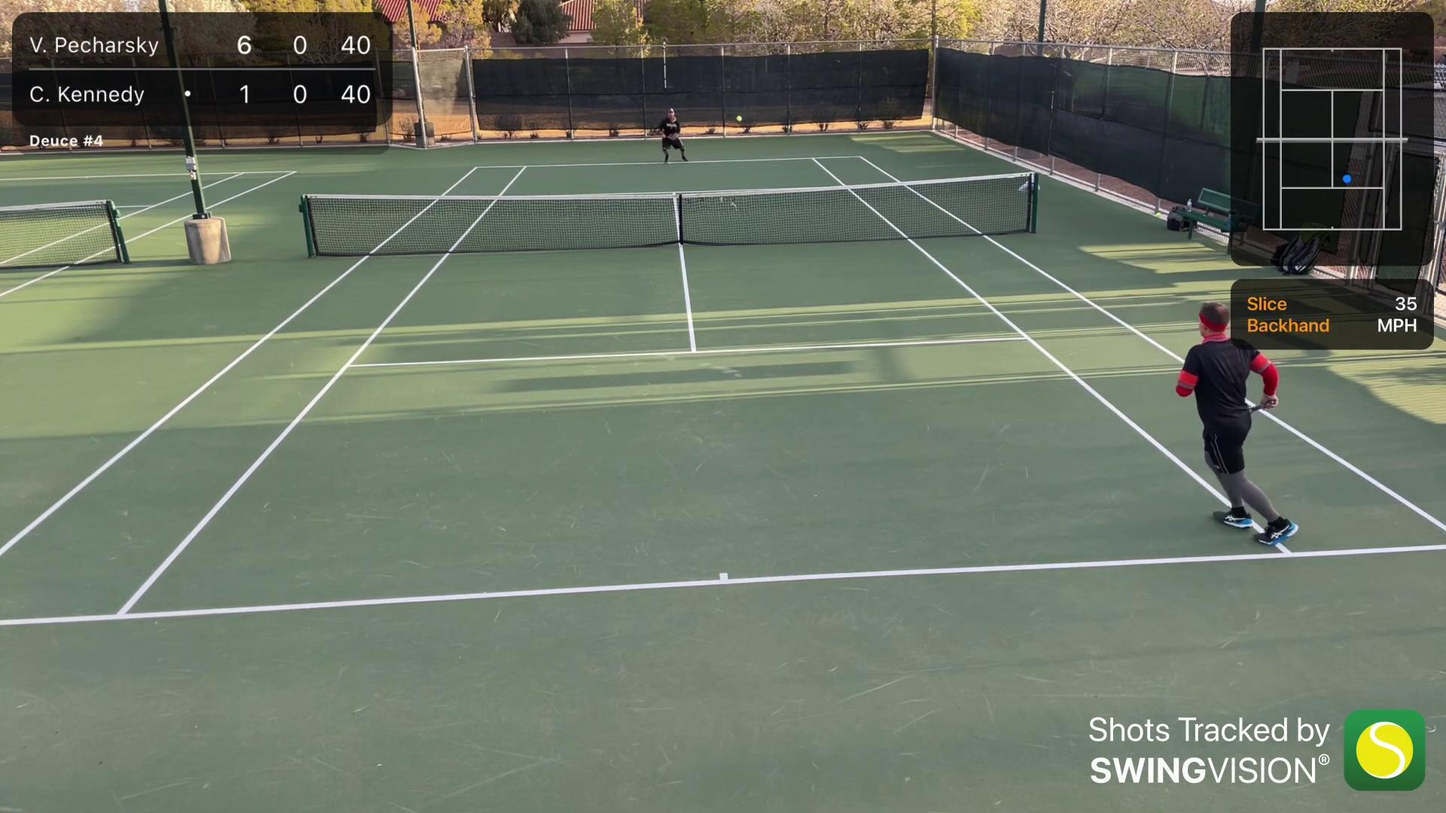ball: (735, 115, 743, 123)
